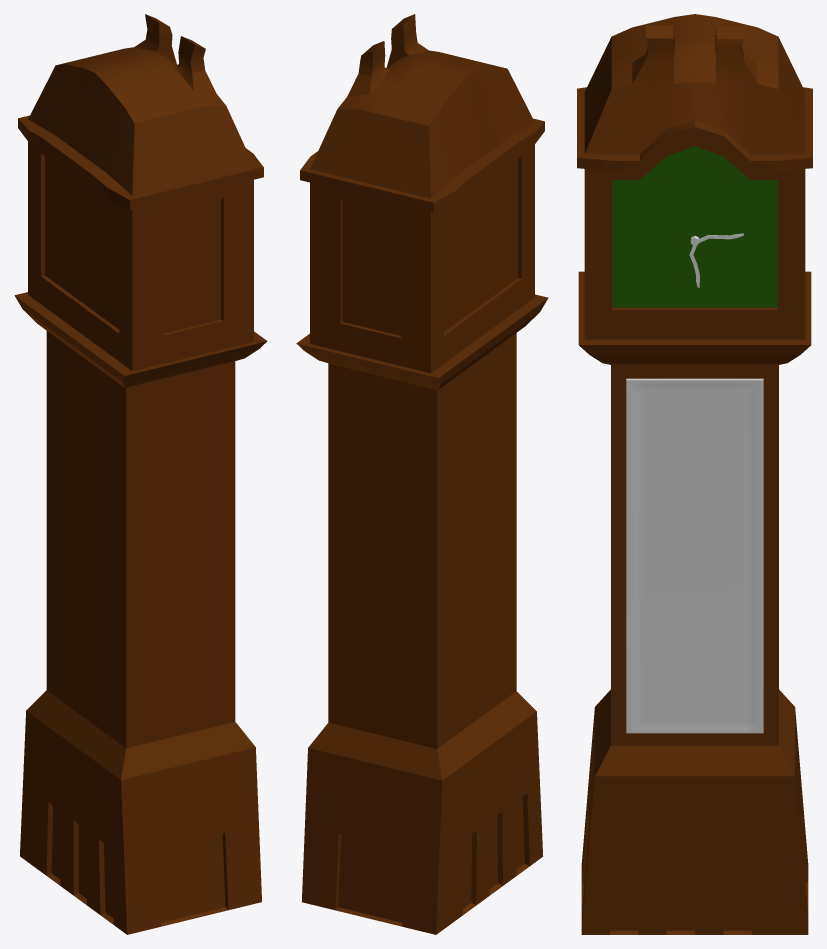
Rendered from grandfatherclock_final_textured.fbx.
The picture shows the model from 3 angles, left to right: view 1: azimuth 30°, elevation 25°; view 2: azimuth 150°, elevation 25°; view 3: azimuth 270°, elevation 25°; orthographic projection. The views are drawn at different scales.
Parts seen in each view (by area): view 1: grandfather_clock; view 2: grandfather_clock; view 3: grandfather_clock, clock_door.
Boxes of the visible parts, x1,y1,x2,y2 form: grandfather_clock: (14,14,267,934); grandfather_clock: (296,14,548,934); grandfather_clock: (577,14,812,934); clock_door: (626,378,763,733).
Size of the model in its own units: 2.44 by 13.43 by 3.22.
